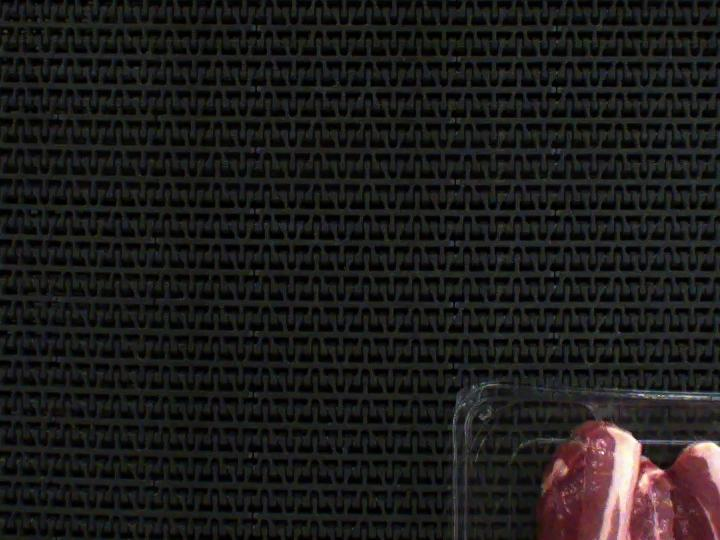packaging-error: (576, 396, 619, 429)
